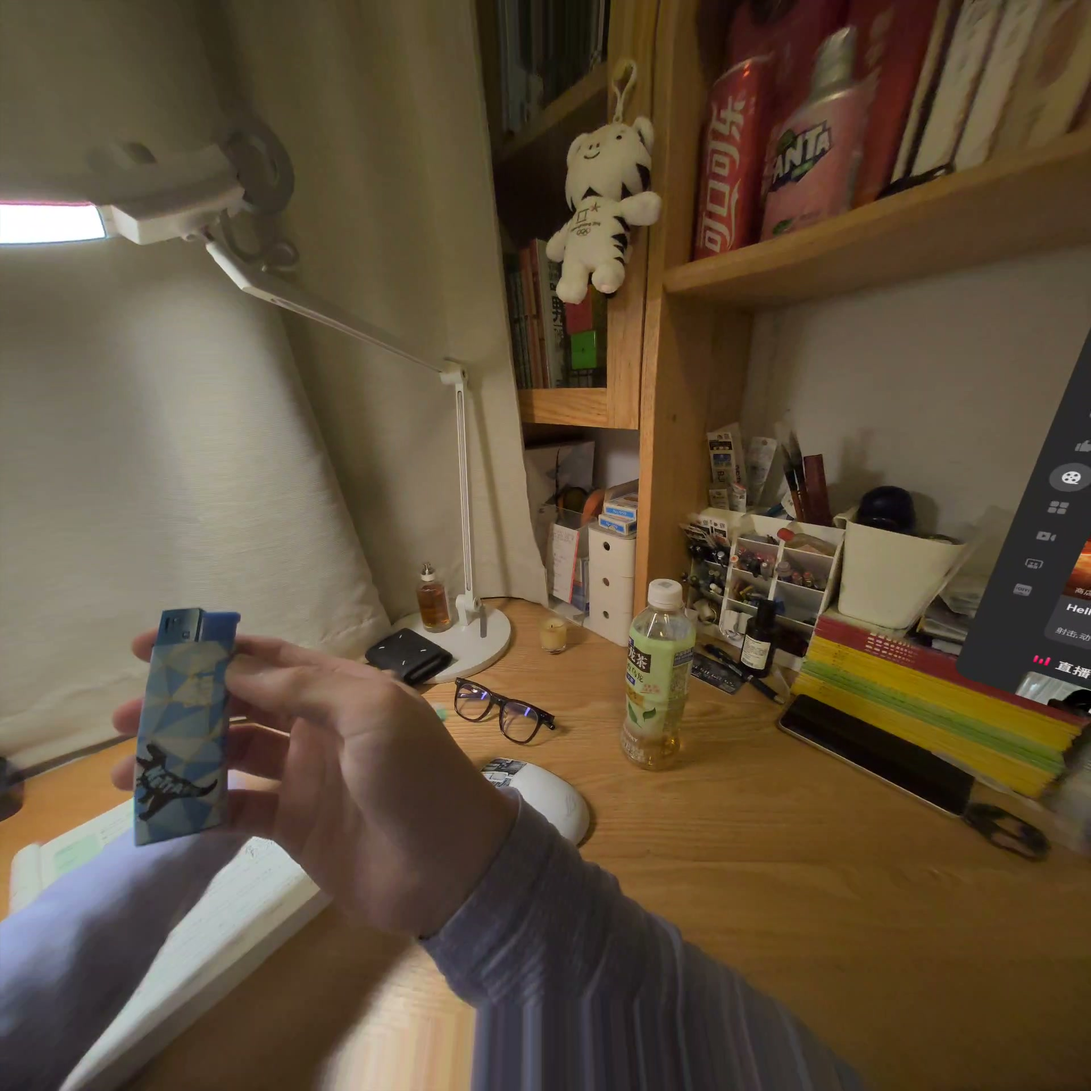lighter: (134, 609, 239, 845)
